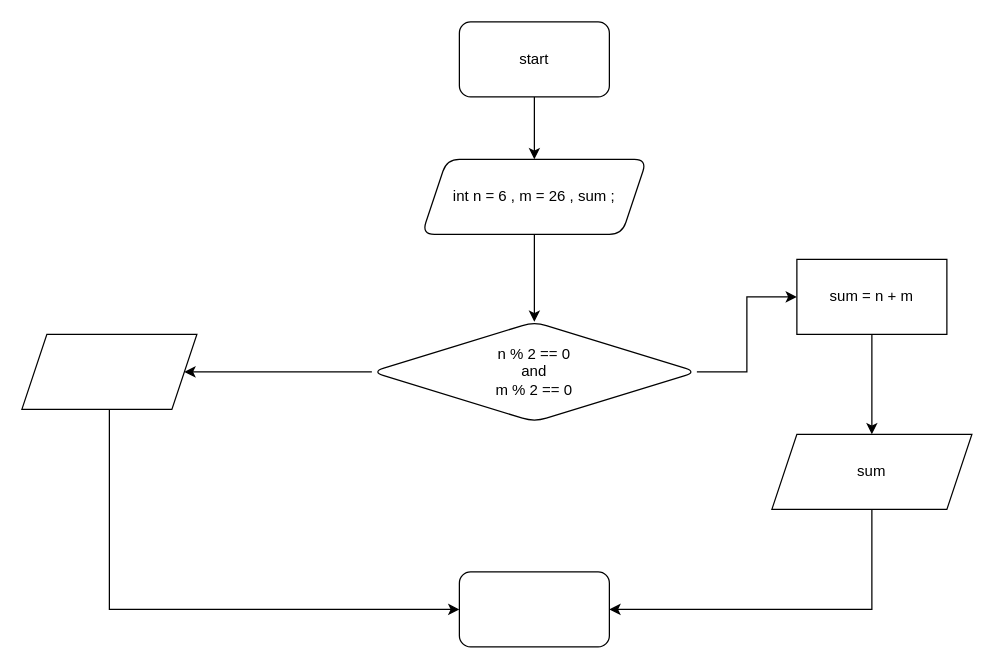
The diagram is 994 pixels wide and 669 high, and some of its shapes have lost their labels. Here are the shapes that lost their labels. From the top down, the centre of each, then its label:
the point at 109,371: şərtə uyğun deyil
the point at 533,609: end
